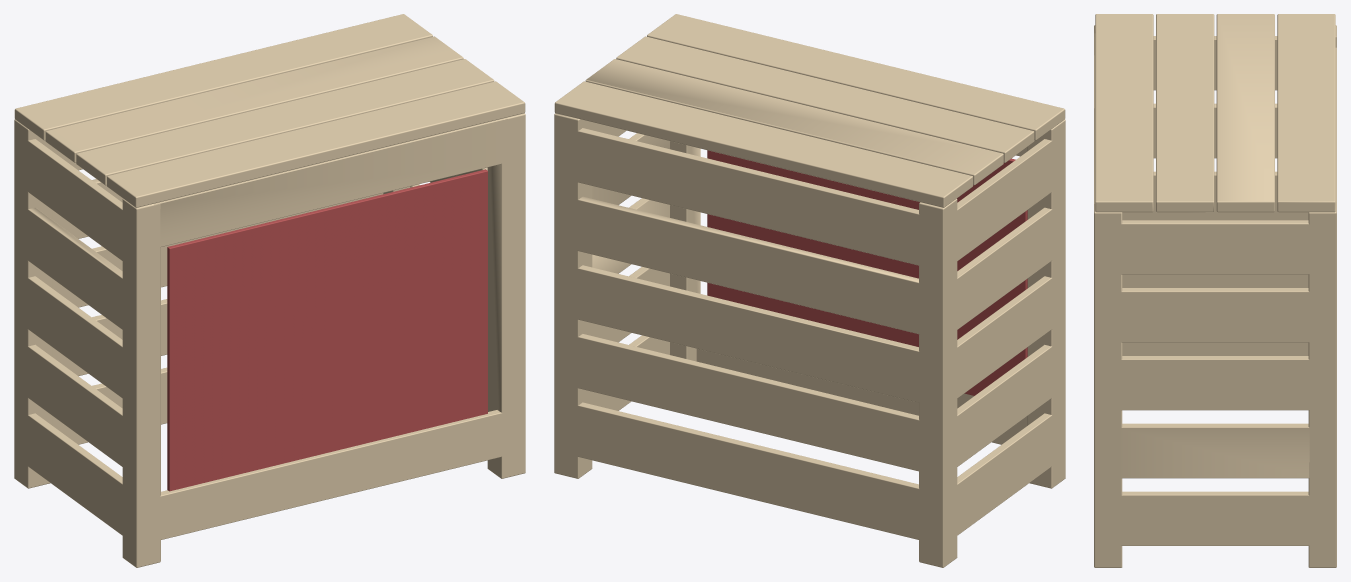
The model's file is mostrador_cajon.glb.
The picture shows the model from 3 angles, left to right: view 1: azimuth 30°, elevation 25°; view 2: azimuth 150°, elevation 25°; view 3: azimuth 270°, elevation 25°; orthographic projection.
Parts seen in each view (by area): view 1: lateral_1_0, panel_marca; view 2: lateral_1_0, panel_marca; view 3: lateral_1_0.
Boxes of the visible parts, x1,y1,x2,y2 form: lateral_1_0: (14, 14, 525, 567); panel_marca: (167, 169, 487, 491); lateral_1_0: (554, 14, 1065, 567); panel_marca: (707, 150, 1027, 395); lateral_1_0: (1094, 14, 1336, 567).
Size of the model in its own units: 1.1 by 1 by 0.6.
